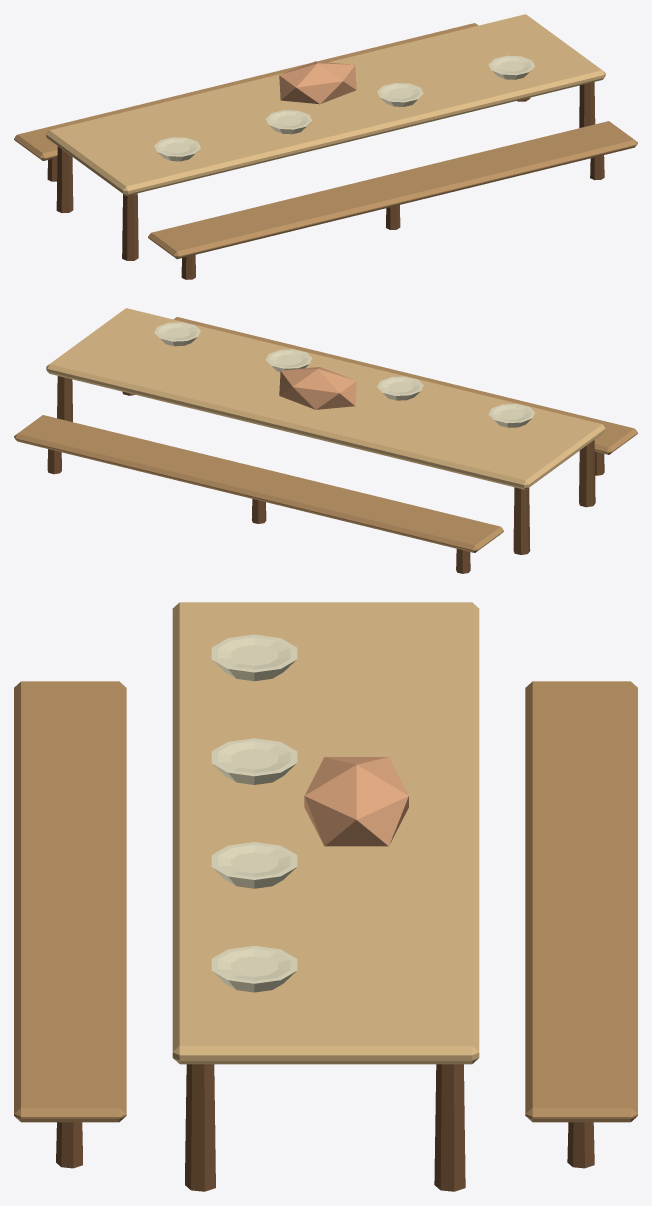
The model's file is CC_BanquetTable.fbx.
The picture shows the model from 3 angles, top to bottom: view 1: azimuth 30°, elevation 25°; view 2: azimuth 150°, elevation 25°; view 3: azimuth 270°, elevation 25°; orthographic projection. The views are drawn at different scales.
Visible parts, largest first — view 1: Top, Long bench, Roast, Long bench.001, Leg.052, Leg.053, Dish.003, Dish, Dish.001, Dish.002, Leg.054; view 2: Top, Long bench.001, Long bench, Roast, Leg.053, Leg.052, Dish.003, Dish.001, Dish, Dish.002, Leg.055; view 3: Top, Long bench, Long bench.001, Roast, Leg.055, Leg.054, Dish.002, Dish.003, Dish.001, Dish, Bench leg.005, Bench leg.002.
Boxes of the visible parts, x1=… form: Top: x1=46, y1=14, x2=605, y2=195; Long bench: x1=148, y1=121, x2=637, y2=259; Roast: x1=279, y1=61, x2=356, y2=104; Long bench.001: x1=14, y1=23, x2=478, y2=160; Leg.052: x1=122, y1=193, x2=138, y2=260; Leg.053: x1=56, y1=146, x2=73, y2=213; Dish.003: x1=488, y1=55, x2=535, y2=79; Dish: x1=154, y1=137, x2=200, y2=161; Dish.001: x1=266, y1=110, x2=312, y2=134; Dish.002: x1=377, y1=83, x2=423, y2=106; Leg.054: x1=579, y1=82, x2=595, y2=127; Top: x1=46, y1=308, x2=605, y2=489; Long bench.001: x1=14, y1=415, x2=503, y2=552; Long bench: x1=173, y1=317, x2=637, y2=454; Roast: x1=279, y1=367, x2=356, y2=409; Leg.053: x1=513, y1=487, x2=530, y2=554; Leg.052: x1=579, y1=440, x2=595, y2=507; Dish.003: x1=154, y1=322, x2=200, y2=346; Dish.001: x1=377, y1=376, x2=423, y2=400; Dish: x1=488, y1=403, x2=534, y2=427; Dish.002: x1=266, y1=349, x2=312, y2=371; Leg.055: x1=57, y1=376, x2=72, y2=421; Top: x1=172, y1=602, x2=479, y2=1064; Long bench: x1=14, y1=681, x2=126, y2=1122; Long bench.001: x1=525, y1=681, x2=637, y2=1122; Roast: x1=304, y1=757, x2=408, y2=846; Leg.055: x1=434, y1=1064, x2=465, y2=1191; Leg.054: x1=185, y1=1064, x2=215, y2=1191; Dish.002: x1=211, y1=842, x2=297, y2=888; Dish.003: x1=211, y1=945, x2=297, y2=992; Dish.001: x1=211, y1=738, x2=297, y2=784; Dish: x1=211, y1=634, x2=297, y2=681; Bench leg.005: x1=567, y1=1122, x2=594, y2=1168; Bench leg.002: x1=56, y1=1122, x2=82, y2=1168.
Bounding box in the file's own units: 5.2 × 1.12 × 3.05.
